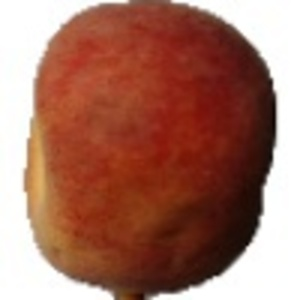pêssego: (21, 1, 279, 300)
